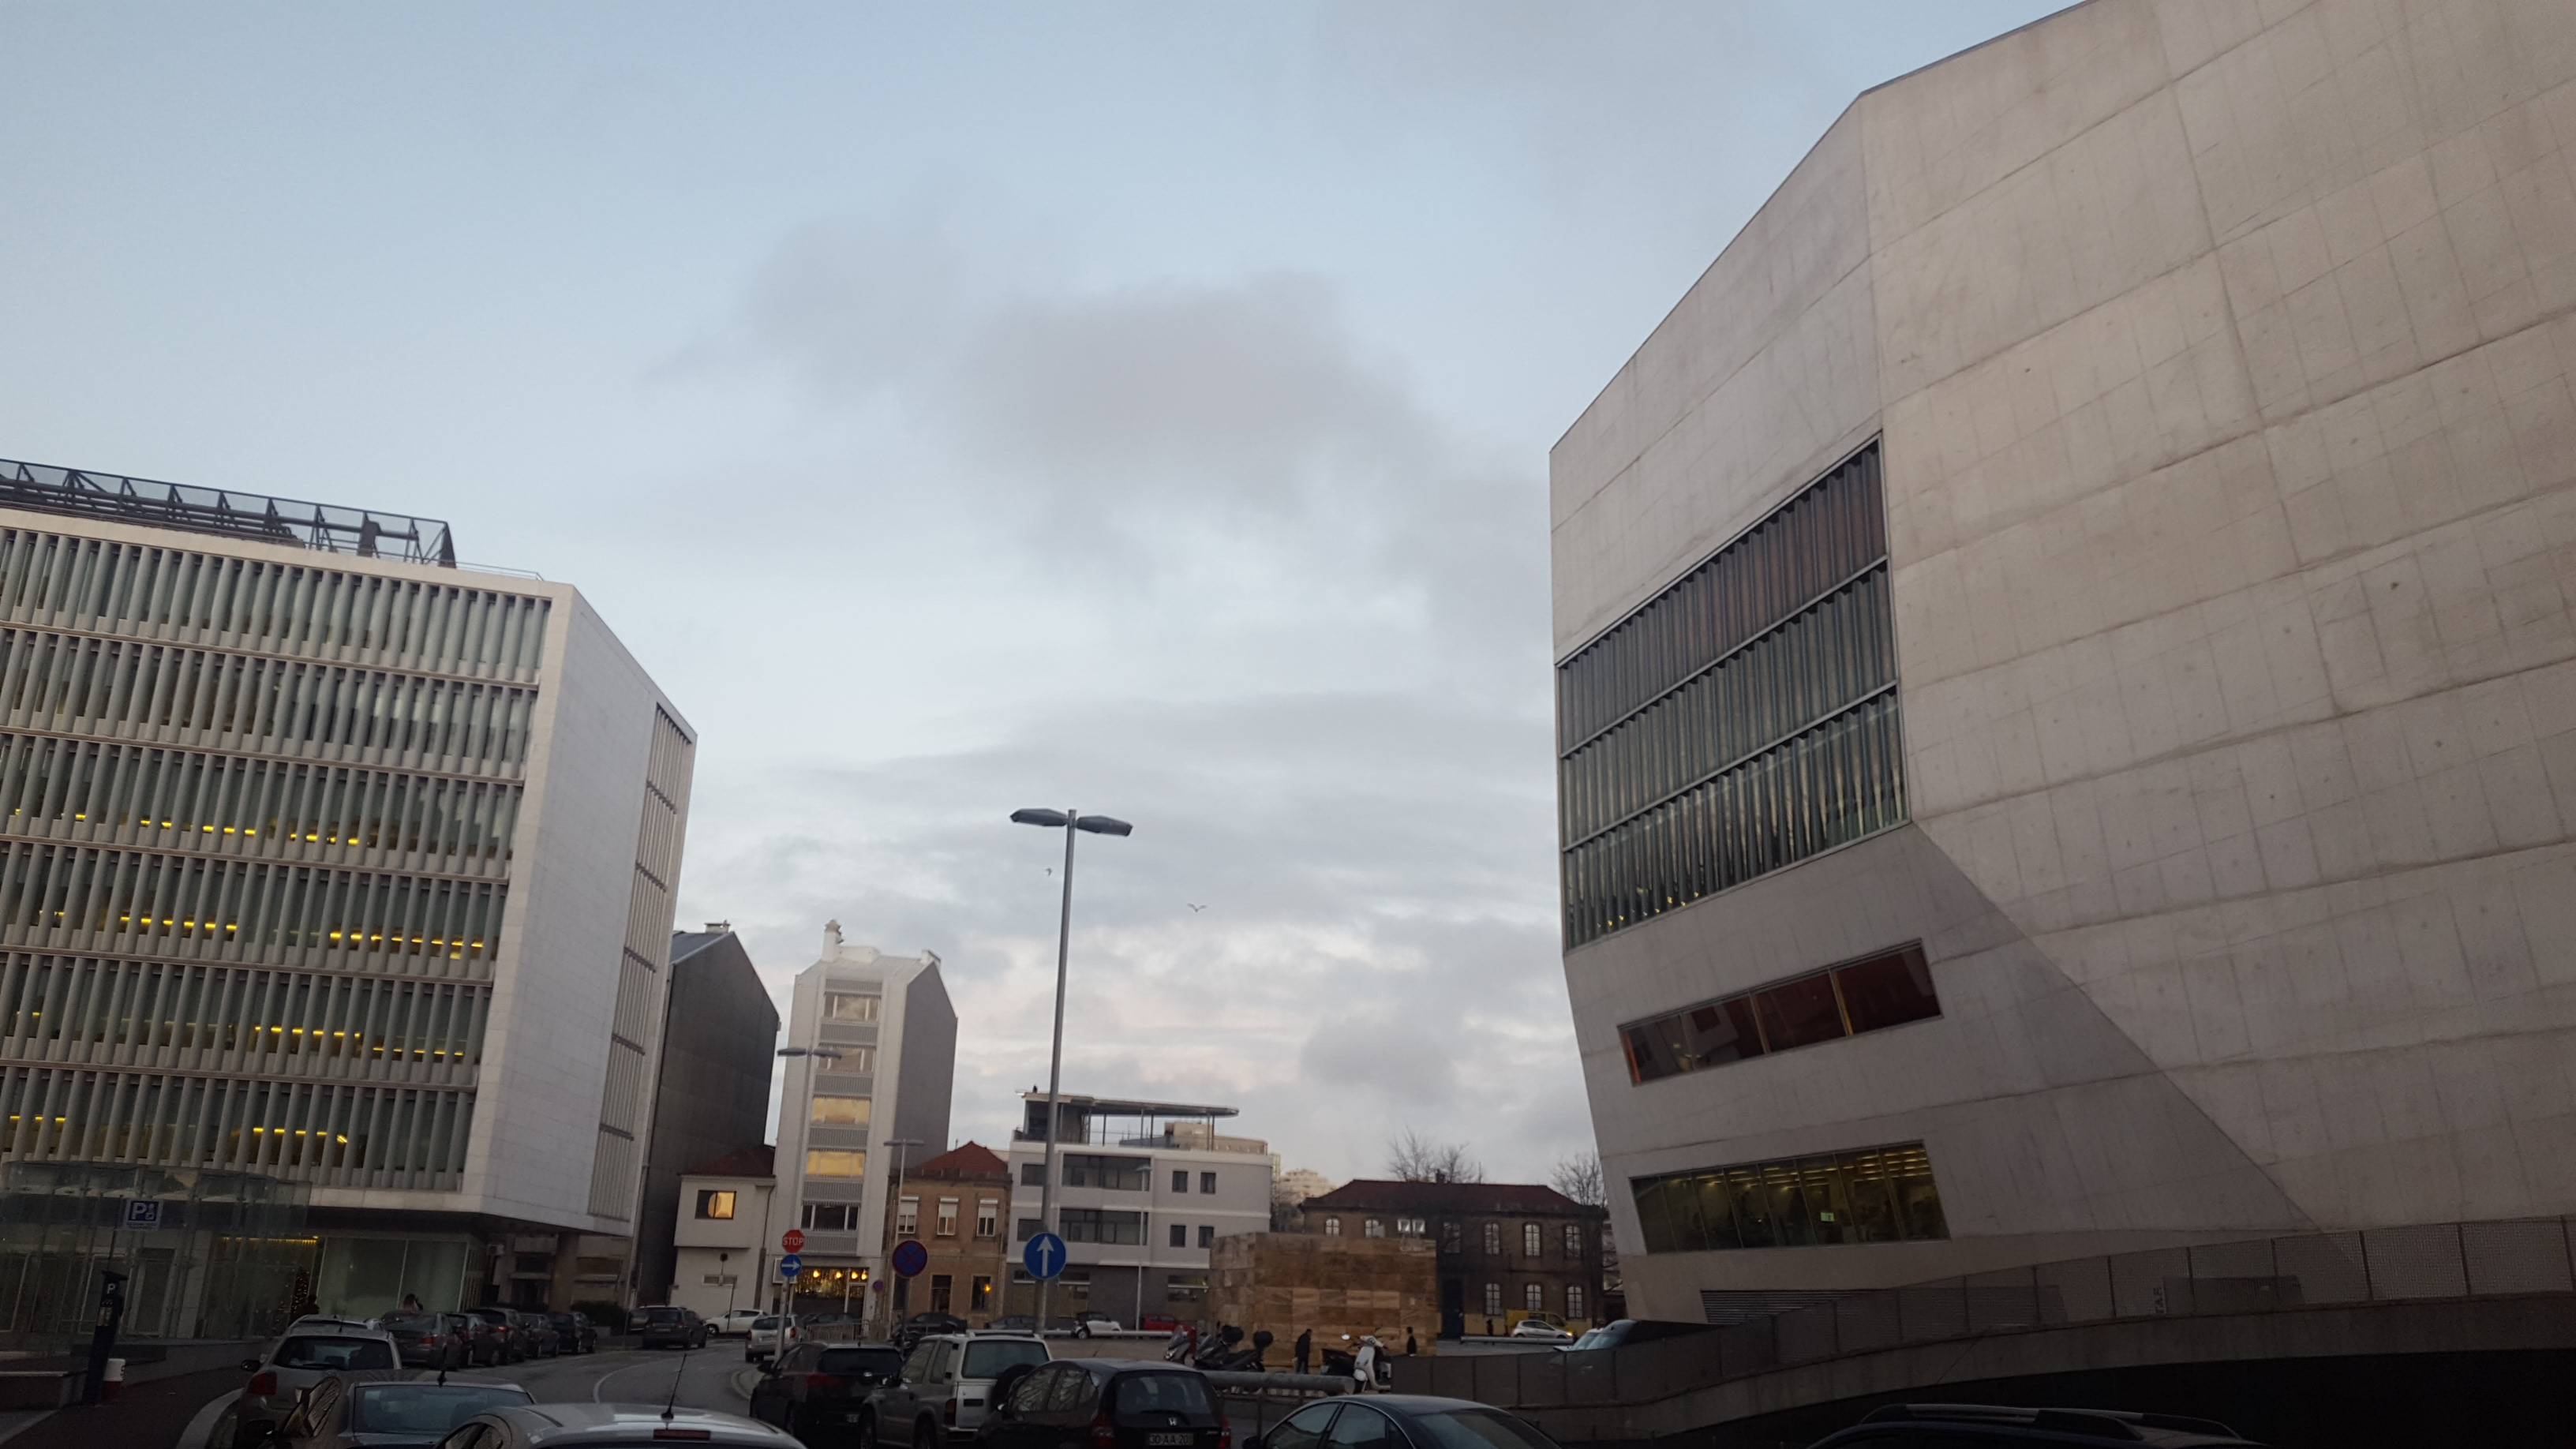musica: (1559, 0, 2576, 1258)
